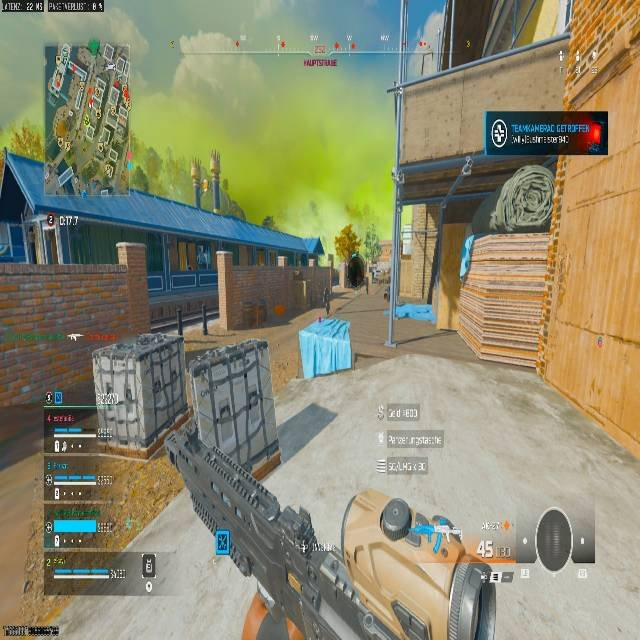player: (346, 253, 364, 289)
